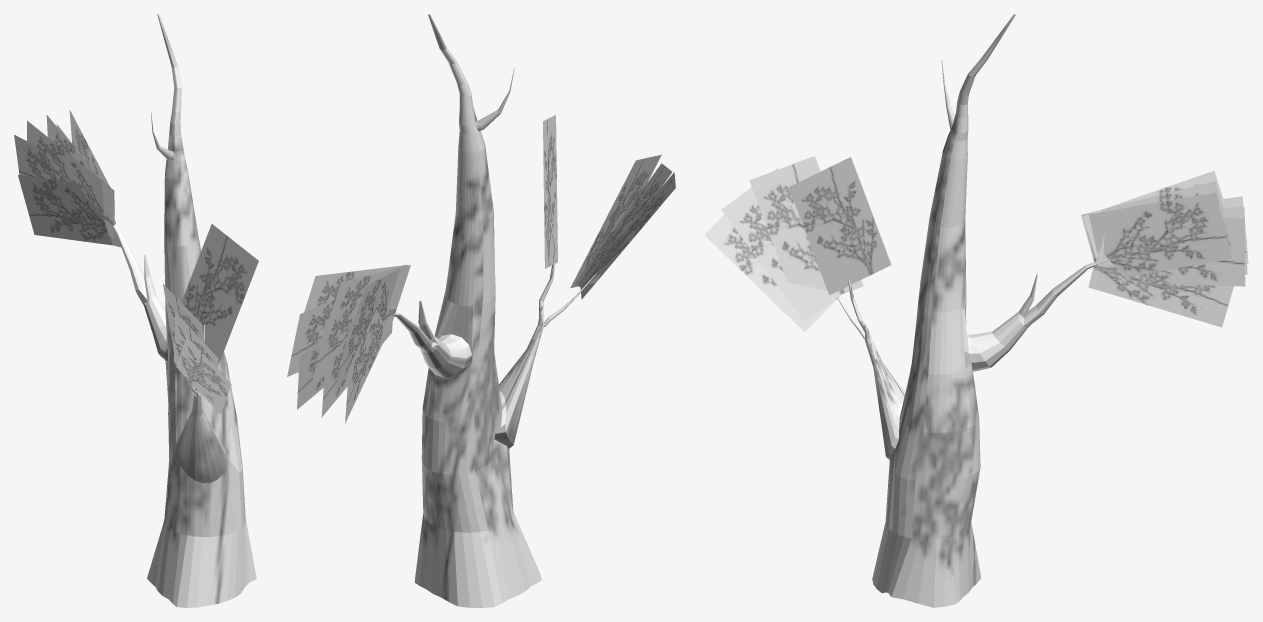
File: ArbolPocaHojas.fbx
The picture shows the model from 3 angles, left to right: view 1: azimuth 30°, elevation 25°; view 2: azimuth 150°, elevation 25°; view 3: azimuth 270°, elevation 25°; orthographic projection. The views are drawn at different scales.
Parts seen in each view (by area): view 1: Tallo, Plane; view 2: Tallo, Plane; view 3: Plane, Tallo.
Boxes of the visible parts, <box> form: Tallo: <box>111,14,256,607</box>; Plane: <box>14,109,258,414</box>; Tallo: <box>392,14,596,607</box>; Plane: <box>287,115,675,423</box>; Plane: <box>705,156,1248,332</box>; Tallo: <box>838,14,1110,607</box>.
Bounding box in the file's own units: 2.5 × 8.99 × 7.78.
1 material, 1 textured.
